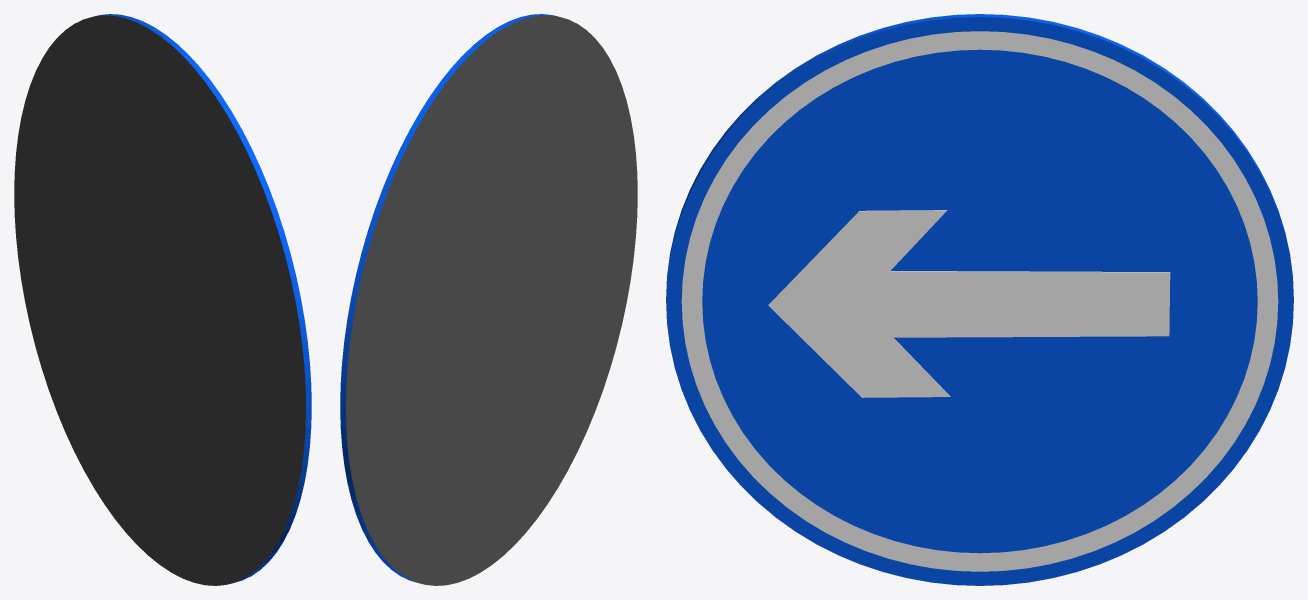
File: 直行标志牌.gltf
The picture shows the model from 3 angles, left to right: view 1: azimuth 30°, elevation 25°; view 2: azimuth 150°, elevation 25°; view 3: azimuth 270°, elevation 25°; orthographic projection. The views are drawn at different scales.
Visible parts, largest first — view 1: 圆环; view 2: 圆环; view 3: 圆环, BezierCurve.001.
Boxes of the visible parts, <box> form: 圆环: <box>14,14,311,585</box>; 圆环: <box>340,14,637,585</box>; 圆环: <box>666,14,1293,585</box>; BezierCurve.001: <box>768,210,1170,397</box>.
Bounding box in the file's own units: 0.0111 × 0.8 × 0.8.
